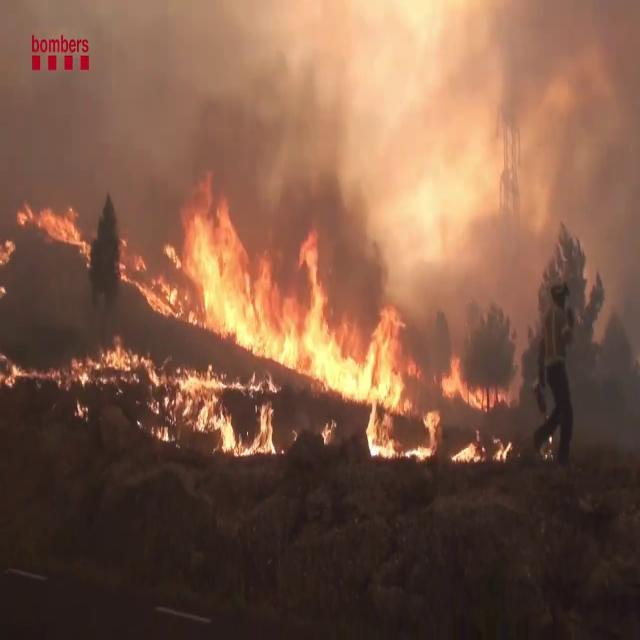Fire: (136, 182, 452, 410), (138, 362, 288, 460), (361, 386, 514, 472), (1, 332, 157, 402), (5, 196, 90, 262)
Smoke: (0, 0, 402, 274), (409, 0, 640, 442)
